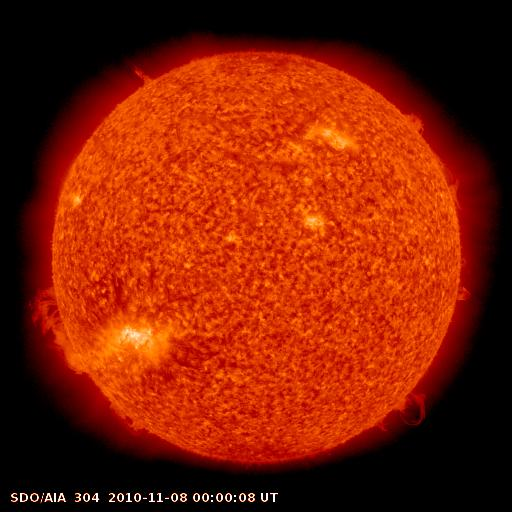prominence: (393, 100, 467, 211), (17, 275, 89, 379), (358, 378, 453, 442), (114, 47, 163, 105), (97, 396, 152, 440), (447, 254, 488, 313)
